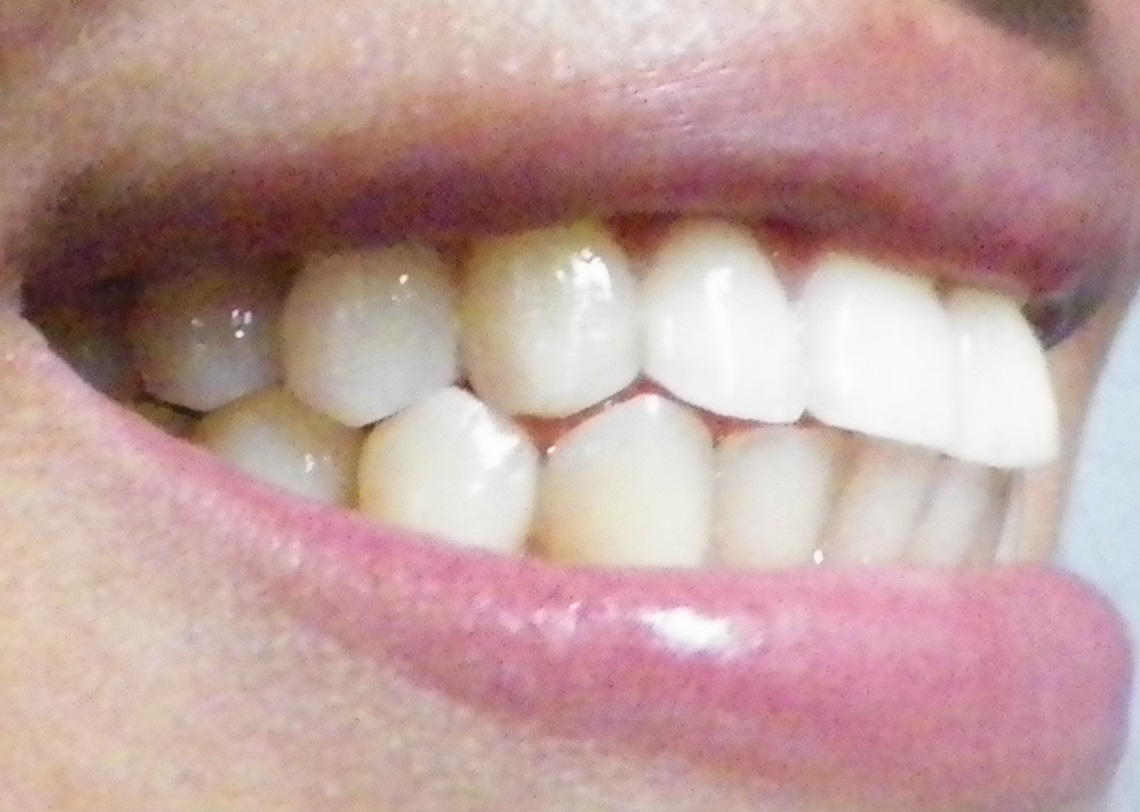boca: (45, 223, 1067, 569)
